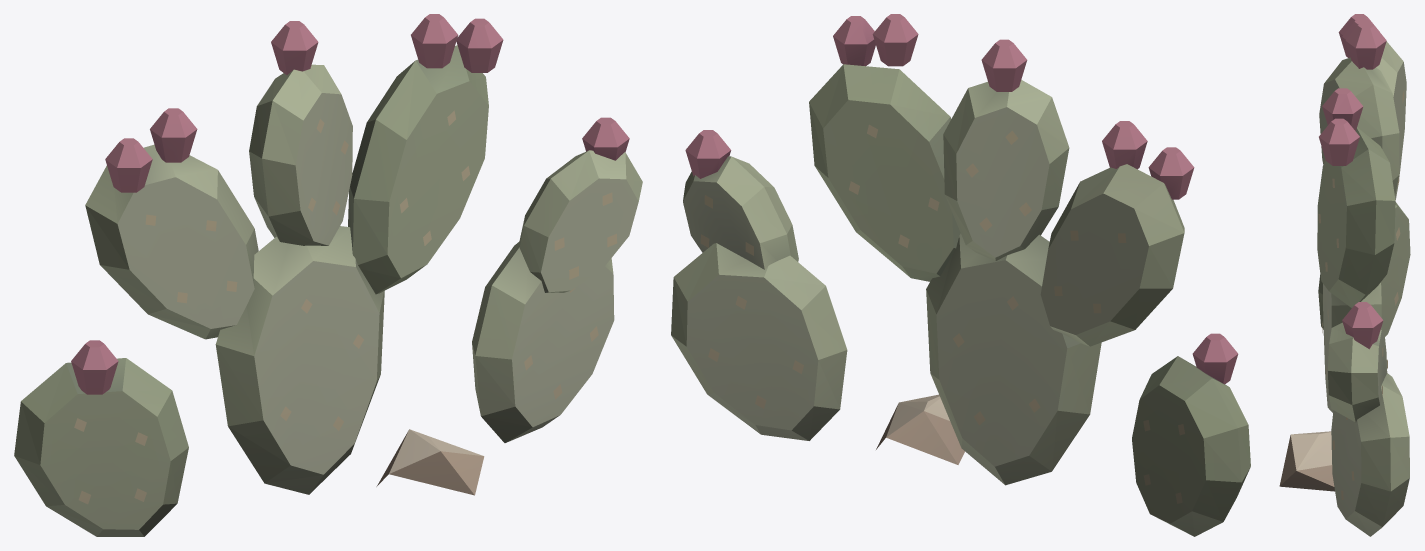
The model's file is pear.glb.
3 views of the same model, side by side, from view 1: azimuth 30°, elevation 25°; view 2: azimuth 150°, elevation 25°; view 3: azimuth 270°, elevation 25° (orthographic). The views are drawn at different scales.
Bounding box in the file's own units: 1.81 × 1.34 × 0.3922.
